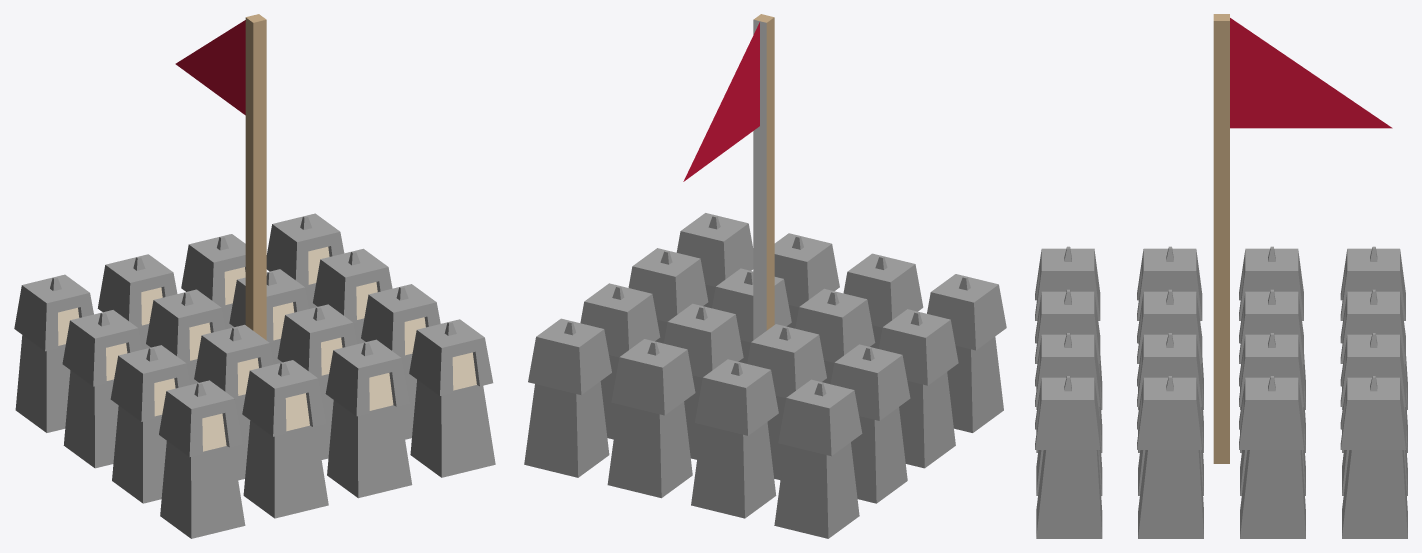
File: infantry.fbx
The picture shows the model from 3 angles, left to right: view 1: azimuth 30°, elevation 25°; view 2: azimuth 150°, elevation 25°; view 3: azimuth 270°, elevation 25°; orthographic projection. The views are drawn at different scales.
Visible parts, largest first — view 1: Group101, Group3, Group6, Group12, Group9, Group10, Group4, Group7, Group13, Group88, Group38, Group63 (+15 smaller); view 2: Group101, Group78, Group81, Group87, Group84, Group79, Group82, Group85, Group88, Group38, Group13, Group63 (+15 smaller); view 3: Group101, Group9, Group34, Group59, Group84, Group10, Group35, Group85, Group60, Group13, Group38, Group29 (+9 smaller).
Part boxes in pixels (box(x1,y1,x2,y2)): Group101: box(175, 14, 266, 340); Group3: box(243, 420, 328, 518); Group6: box(327, 400, 412, 498); Group12: box(160, 441, 245, 538); Group9: box(410, 379, 495, 477); Group10: box(409, 319, 493, 395); Group4: box(242, 360, 326, 436); Group7: box(325, 339, 409, 416); Group13: box(159, 380, 242, 457); Group88: box(14, 274, 93, 351); Group38: box(110, 345, 190, 421); Group63: box(62, 310, 141, 386); Group101: box(683, 14, 774, 340); Group78: box(691, 422, 776, 518); Group81: box(607, 402, 692, 498); Group87: box(774, 442, 859, 538); Group84: box(524, 381, 609, 477); Group79: box(695, 359, 778, 435); Group82: box(611, 339, 695, 415); Group85: box(528, 318, 611, 394); Group88: box(778, 379, 862, 456); Group38: box(878, 309, 958, 385); Group13: box(927, 274, 1006, 350); Group63: box(830, 344, 910, 420); Group101: box(1213, 14, 1392, 463); Group9: box(1036, 450, 1102, 538); Group34: box(1138, 450, 1203, 538); Group59: box(1240, 450, 1305, 538); Group84: box(1342, 450, 1407, 538); Group10: box(1035, 376, 1100, 449); Group35: box(1137, 376, 1202, 449); Group85: box(1340, 376, 1405, 449); Group60: box(1239, 376, 1303, 449); Group13: box(1035, 246, 1100, 320); Group38: box(1137, 246, 1202, 320); Group29: box(1137, 289, 1202, 363).
Size of the model in its own units: 4.59 by 6 by 4.57.
